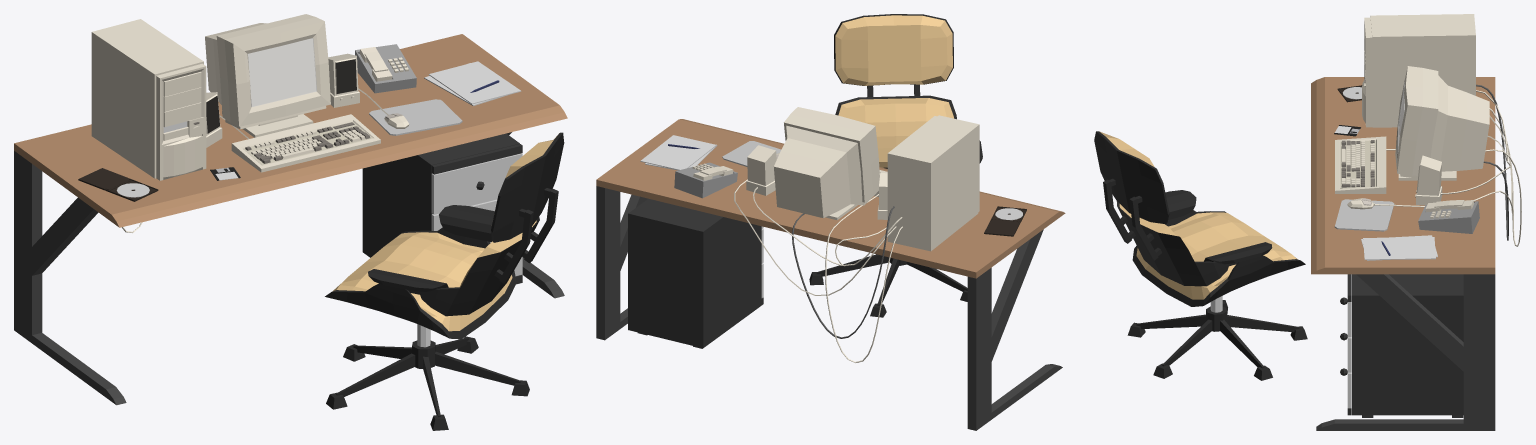
File: scene_optimized_blender.glb
3 views of the same model, side by side, from view 1: azimuth 30°, elevation 25°; view 2: azimuth 150°, elevation 25°; view 3: azimuth 270°, elevation 25° (orthographic). The views are drawn at different scales.
Parts seen in each view (by area): view 1: computer_desk, computer_chair, computer_case, monitor, drawers, keyboard, screen, top_paper, mouse_pad, telephone_body, speaker_2, cd_case (+2 smaller); view 2: computer_desk, drawers, computer_chair, computer_case, monitor, top_paper, speaker_2, telephone_body, cd_case, computer_wire, keyboard_wire, mouse_pad (+2 smaller); view 3: computer_desk, computer_chair, drawers, computer_case, monitor, keyboard, top_paper, mouse_pad, telephone_body, speaker_2, computer_wire, keyboard_wire (+1 smaller).
Part boxes in pixels (bbox=[...]): computer_desk: bbox=[14, 34, 567, 405]; computer_chair: bbox=[325, 132, 564, 430]; computer_case: bbox=[91, 19, 206, 180]; monitor: bbox=[205, 14, 330, 137]; drawers: bbox=[362, 133, 522, 284]; keyboard: bbox=[231, 114, 380, 172]; screen: bbox=[247, 38, 317, 106]; top_paper: bbox=[428, 61, 521, 104]; mouse_pad: bbox=[369, 99, 462, 135]; telephone_body: bbox=[355, 44, 416, 93]; speaker_2: bbox=[328, 53, 359, 107]; cd_case: bbox=[78, 168, 158, 201]; computer_desk: bbox=[596, 119, 1065, 430]; drawers: bbox=[628, 198, 763, 348]; computer_chair: bbox=[809, 14, 982, 317]; computer_case: bbox=[887, 115, 979, 251]; monitor: bbox=[774, 107, 879, 220]; top_paper: bbox=[640, 135, 716, 170]; speaker_2: bbox=[746, 145, 776, 195]; telephone_body: bbox=[674, 162, 737, 198]; cd_case: bbox=[984, 206, 1026, 236]; computer_wire: bbox=[792, 206, 894, 338]; keyboard_wire: bbox=[825, 194, 902, 362]; mouse_pad: bbox=[722, 141, 781, 166]; computer_desk: bbox=[1311, 77, 1495, 430]; computer_chair: bbox=[1094, 131, 1307, 380]; drawers: bbox=[1340, 274, 1463, 417]; computer_case: bbox=[1362, 14, 1475, 127]; monitor: bbox=[1395, 66, 1489, 180]; keyboard: bbox=[1335, 136, 1386, 193]; top_paper: bbox=[1363, 237, 1435, 259]; mouse_pad: bbox=[1334, 199, 1394, 231]; telephone_body: bbox=[1418, 201, 1479, 233]; speaker_2: bbox=[1415, 155, 1442, 205]; computer_wire: bbox=[1476, 84, 1508, 240]; keyboard_wire: bbox=[1386, 108, 1521, 246].
Size of the model in its own units: 188 by 116 by 178.
Materials: 3 (2 with a texture image).
